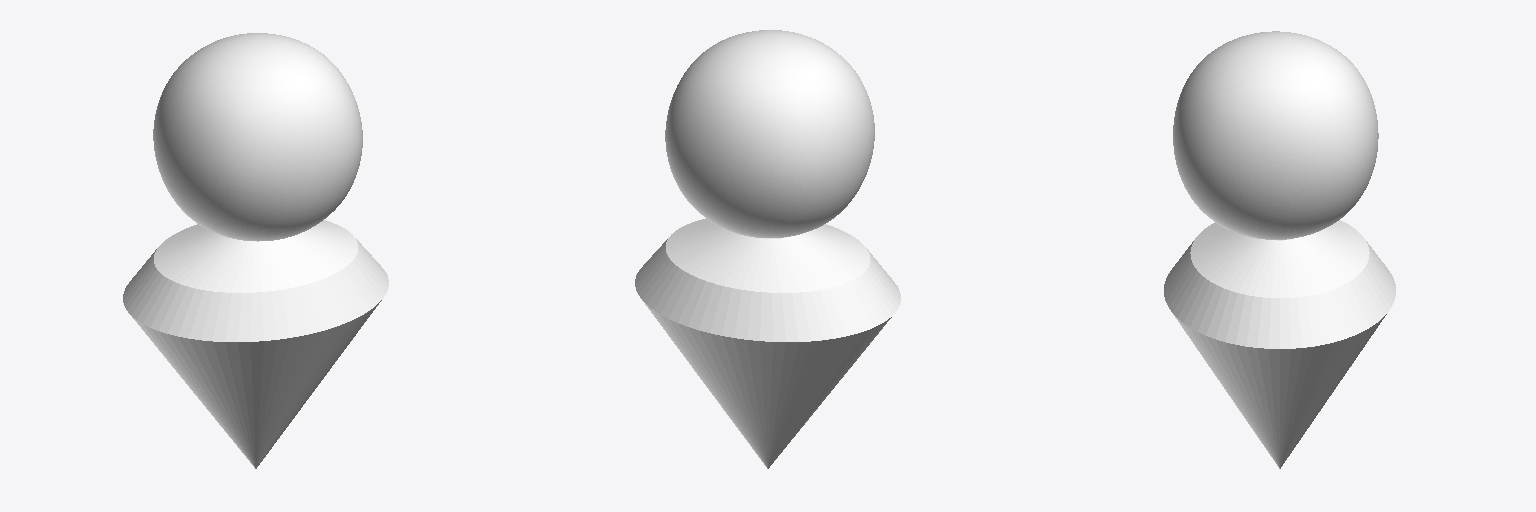
Rendered from Character.obj.
The picture shows the model from 3 angles: view 1: azimuth 30°, elevation 25°; view 2: azimuth 150°, elevation 25°; view 3: azimuth 270°, elevation 25°; orthographic projection.
Visible parts, largest first — view 1: Cone_Cone.002, Cube_Cube.001; view 2: Cone_Cone.002, Cube_Cube.001; view 3: Cube_Cube.001, Cone_Cone.002.
Boxes of the visible parts, x1,y1,x2,y2 form: Cone_Cone.002: [123, 220, 388, 468]; Cube_Cube.001: [153, 33, 362, 241]; Cone_Cone.002: [635, 218, 900, 468]; Cube_Cube.001: [665, 30, 874, 237]; Cube_Cube.001: [1173, 31, 1378, 239]; Cone_Cone.002: [1164, 220, 1395, 468].
Bounding box in the file's own units: 1.24 × 2.12 × 1.04.